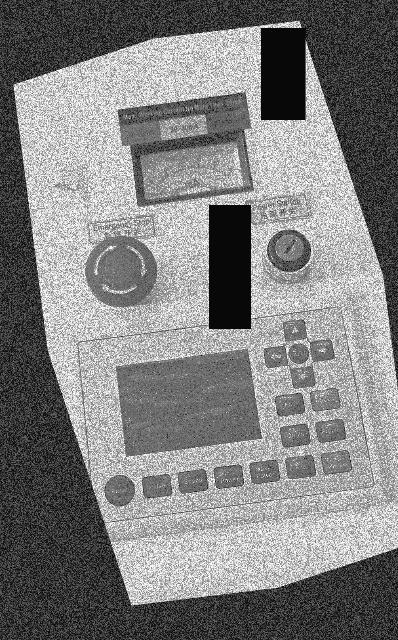Amp_Meter: (140, 140, 250, 200)
Display: (117, 351, 261, 455)
Down_button: (291, 366, 315, 388)
Emergency_Stop: (85, 236, 156, 306)
Enter_button: (310, 389, 340, 411)
Esc_button: (275, 393, 305, 416)
File_button: (286, 456, 316, 479)
Frame_button: (316, 419, 346, 442)
Left_button: (264, 346, 287, 367)
Max-Power_button: (250, 460, 280, 484)
Min-Power_button: (214, 465, 243, 488)
Origin_button: (280, 424, 310, 447)
Power_switch: (275, 233, 305, 262)
Pulse_button: (142, 475, 171, 498)
Reset_button: (105, 476, 135, 506)
Right_button: (311, 340, 334, 361)
Speed_button: (178, 470, 207, 493)
Start-Pause_button: (321, 450, 352, 474)
Up_button: (284, 319, 307, 341)
Z_U_button: (289, 344, 309, 364)
